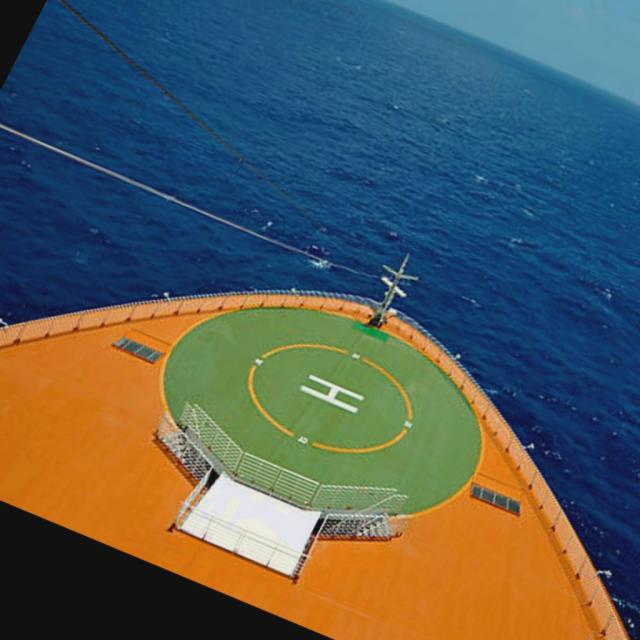helipad: (242, 334, 416, 458)
